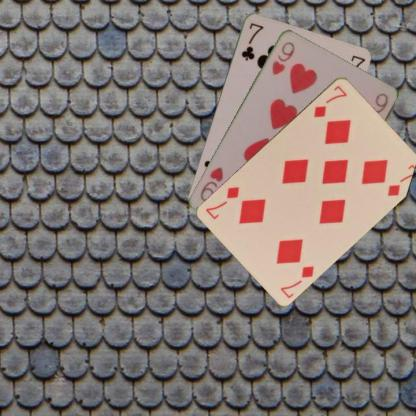7c: (238, 20, 265, 62)
7d: (277, 262, 316, 300), (311, 82, 348, 118)
9h: (270, 39, 297, 76)
